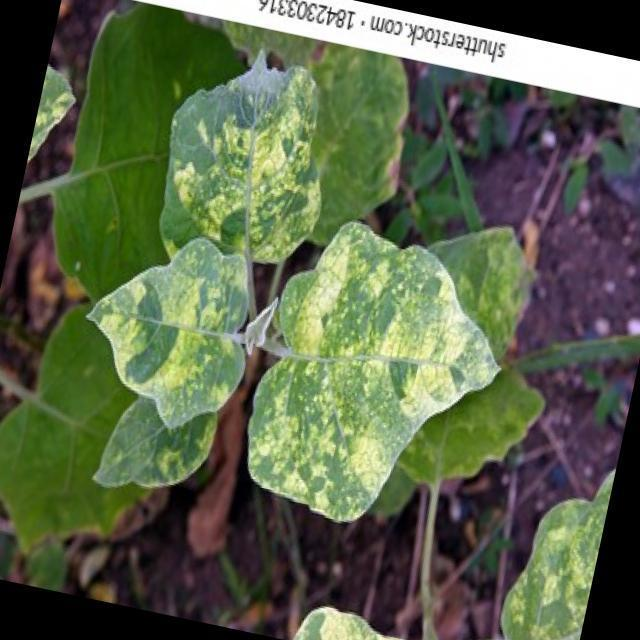Mosaic Virus: (252, 221, 520, 550), (164, 82, 326, 282), (81, 247, 256, 421), (472, 474, 610, 640)
